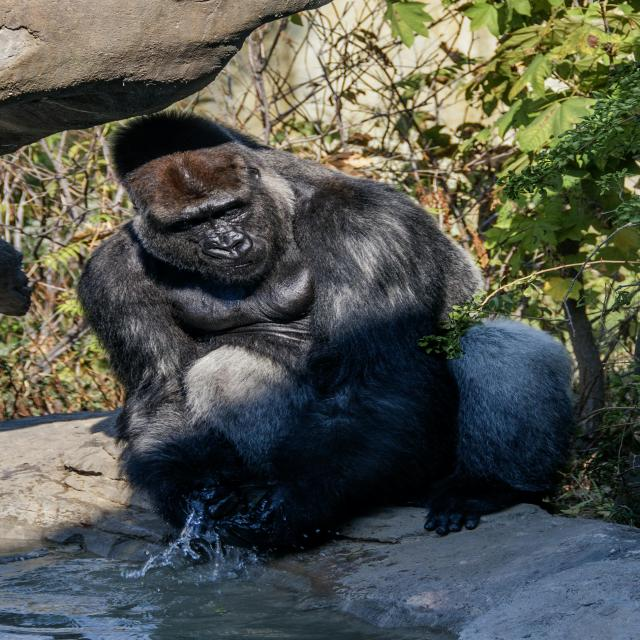Gorilla: (86, 119, 578, 535)
